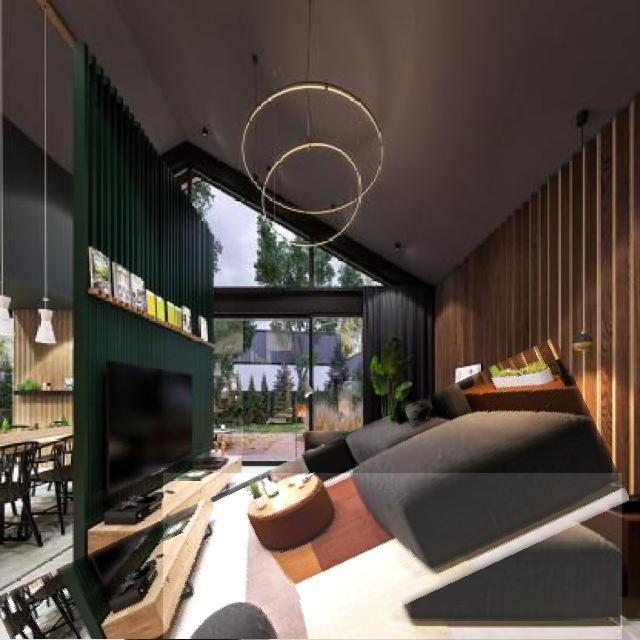floor: (164, 474, 622, 640), (75, 619, 87, 640), (54, 630, 73, 640)
